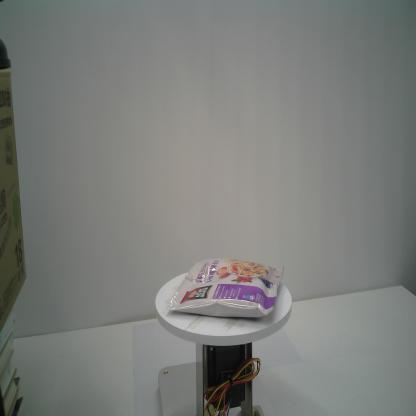Instant Drink: (167, 256, 283, 318)
